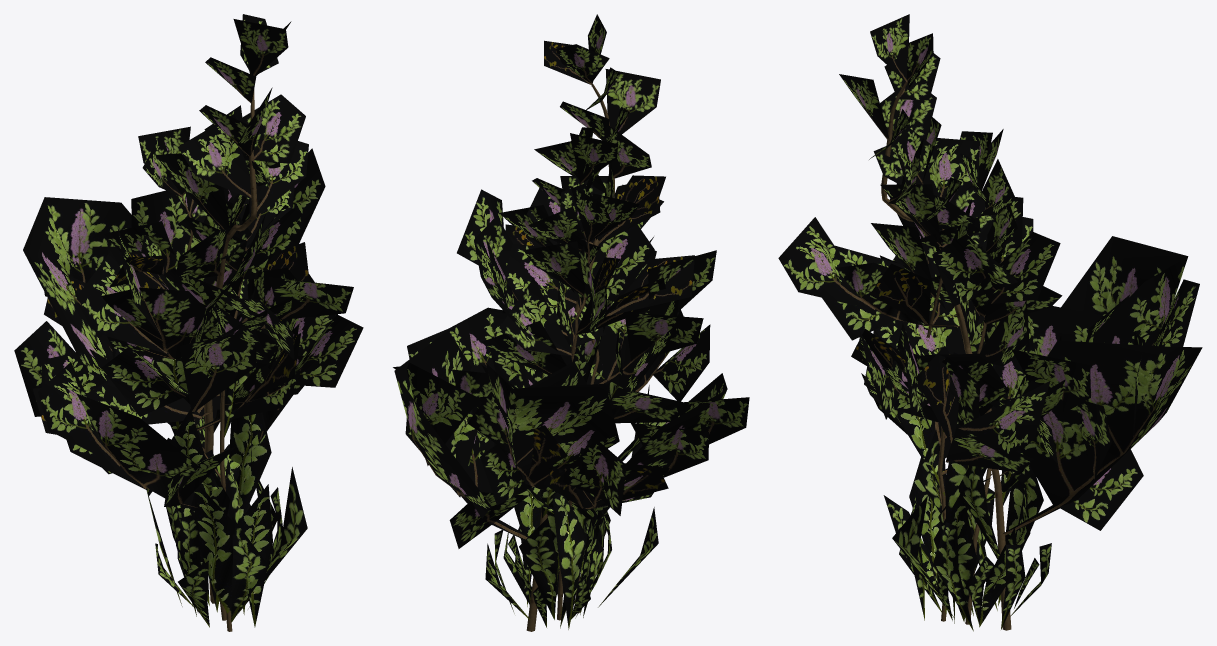
File: lilac_sapling_1k.gltf
The picture shows the model from 3 angles, left to right: view 1: azimuth 30°, elevation 25°; view 2: azimuth 150°, elevation 25°; view 3: azimuth 270°, elevation 25°; orthographic projection. The views are drawn at different scales.
Visible parts, largest first — view 1: Lilac_sapling_3__LOD0, Lilac_sapling_2__LOD0, Lilac_sapling_1__LOD0; view 2: Lilac_sapling_3__LOD0, Lilac_sapling_1__LOD0, Lilac_sapling_2__LOD0; view 3: Lilac_sapling_3__LOD0, Lilac_sapling_2__LOD0, Lilac_sapling_1__LOD0.
Boxes of the visible parts, <box> form: Lilac_sapling_3__LOD0: <box>23,14,353,614</box>; Lilac_sapling_2__LOD0: <box>38,105,363,631</box>; Lilac_sapling_1__LOD0: <box>14,126,335,627</box>; Lilac_sapling_3__LOD0: <box>394,14,710,631</box>; Lilac_sapling_1__LOD0: <box>407,183,716,628</box>; Lilac_sapling_2__LOD0: <box>393,127,749,619</box>; Lilac_sapling_3__LOD0: <box>778,14,1202,631</box>; Lilac_sapling_2__LOD0: <box>851,115,1129,625</box>; Lilac_sapling_1__LOD0: <box>880,129,1090,627</box>.
Size of what is drawn, in the model's own units: 1.54 by 2.67 by 1.71.
Materials: 2 (2 with a texture image).
